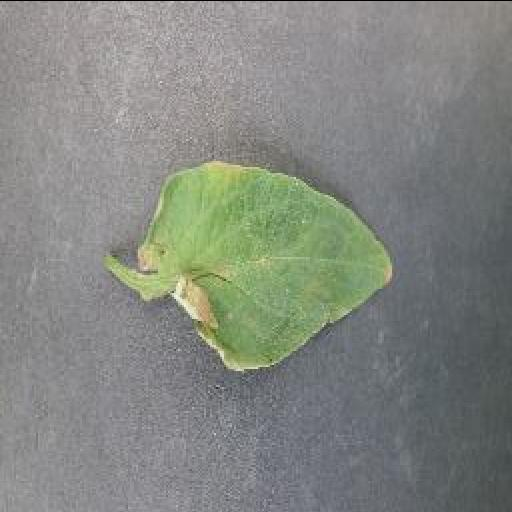disease_tomato: (134, 158, 400, 374)
